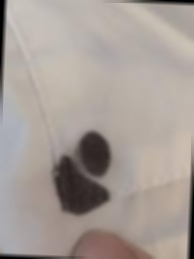ink: (56, 160, 112, 219), (81, 133, 112, 176)
